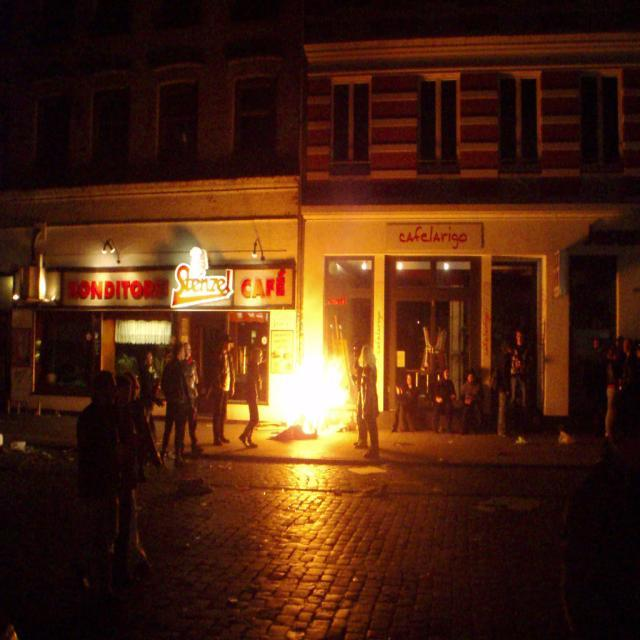Fire: (284, 362, 338, 418)
